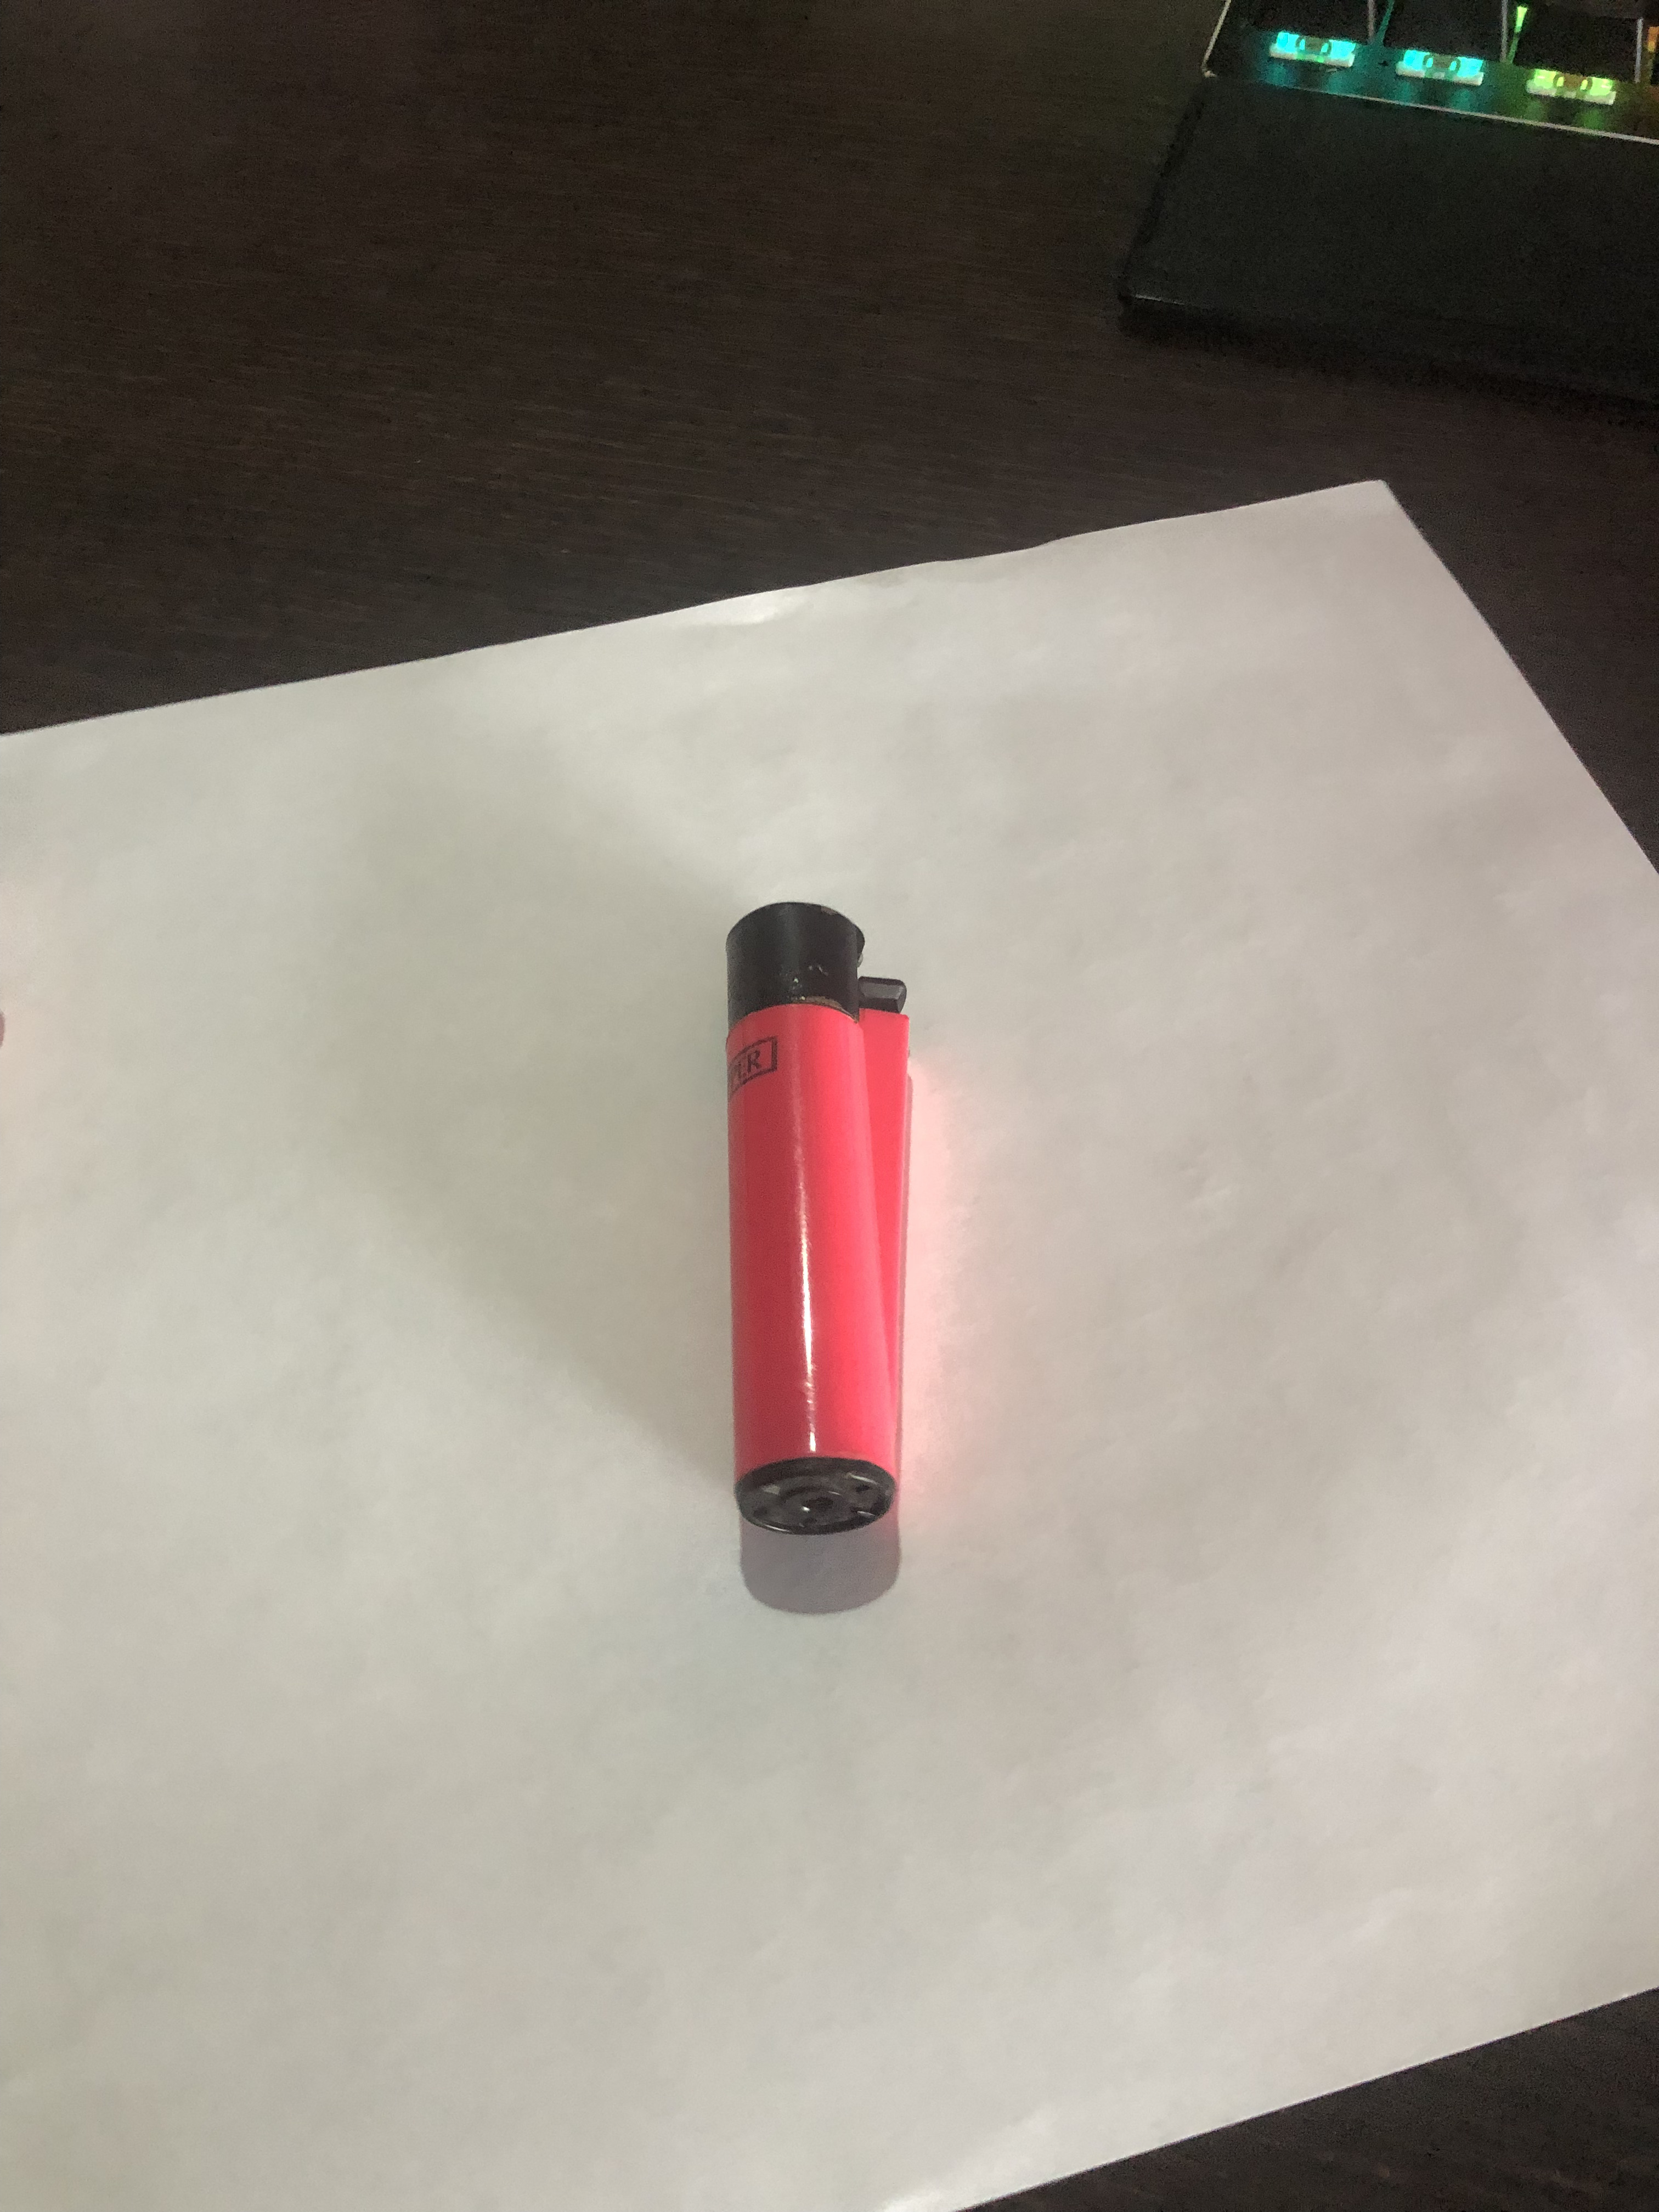Mechero: (688, 843, 960, 1559)
